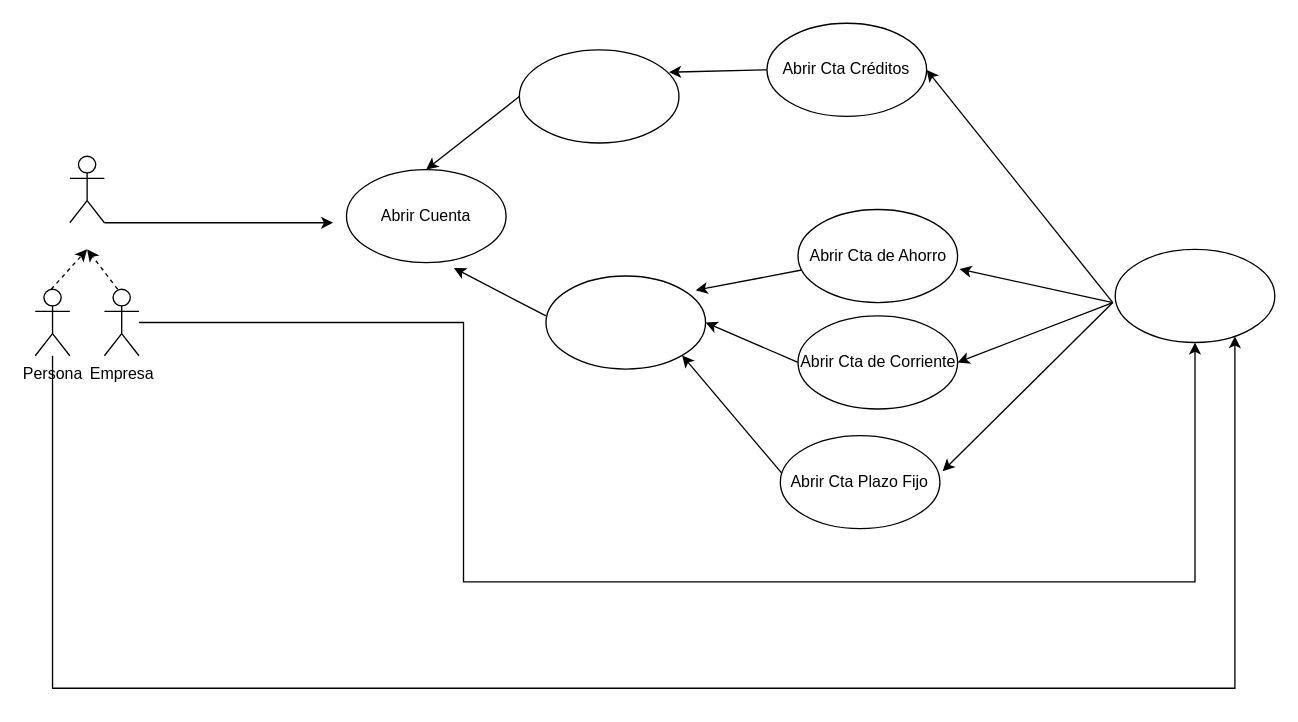
This 1298x722 diagram has some shape labels left out. The shapes that lost their labels are listed below. From the top down, each one's centre as x and y in pixels, then its label:
At [598,96]: "Abrir Cuenta de Crédito (Activos)".
At [86,189]: "Cliente".
At [1194,295]: "Crear Tarjeta".
At [625,322]: "Abrir Cuenta Bancaria (Pasivos)".
